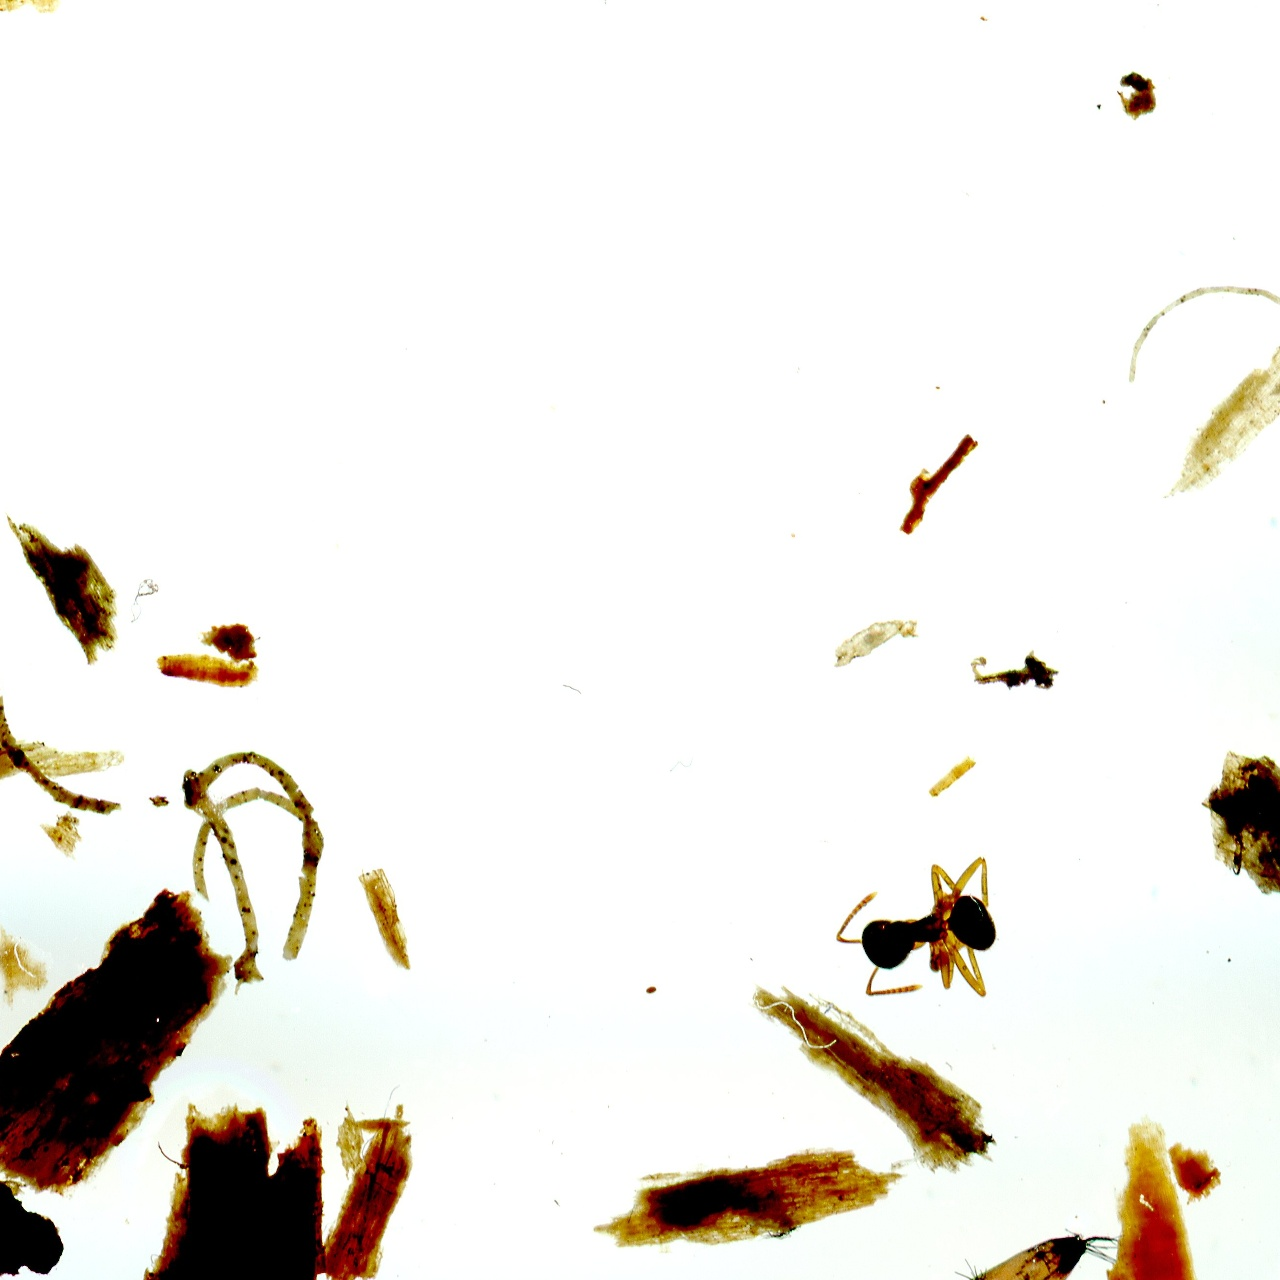arthropod: (831, 853, 999, 1001)
